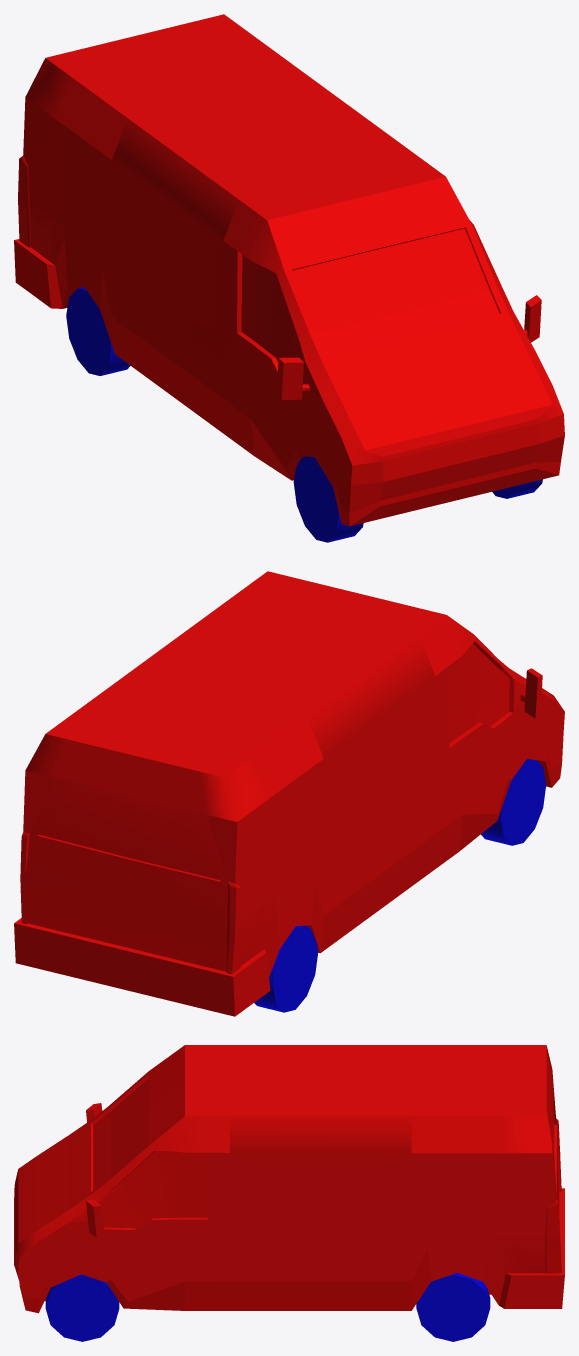
File: uv_camion.fbx
3 views of the same model, one above another, from view 1: azimuth 30°, elevation 25°; view 2: azimuth 150°, elevation 25°; view 3: azimuth 270°, elevation 25° (orthographic). The views are drawn at different scales.
Parts seen in each view (by area): view 1: fragoneta, Cylinder001, Cylinder003; view 2: fragoneta, Cylinder003, Cylinder001; view 3: fragoneta, Cylinder004, Cylinder002.
Part boxes in pixels (left/top/right/bottom): fragoneta: left=14, top=14, right=564, bottom=526; Cylinder001: left=293, top=456, right=363, bottom=542; Cylinder003: left=66, top=287, right=130, bottom=375; fragoneta: left=14, top=571, right=564, bottom=1016; Cylinder003: left=254, top=925, right=318, bottom=1012; Cylinder001: left=481, top=758, right=546, bottom=845; fragoneta: left=14, top=1045, right=564, bottom=1313; Cylinder004: left=416, top=1272, right=490, bottom=1341; Cylinder002: left=45, top=1274, right=119, bottom=1341.
Size of the model in its own units: 241 by 241 by 546.
